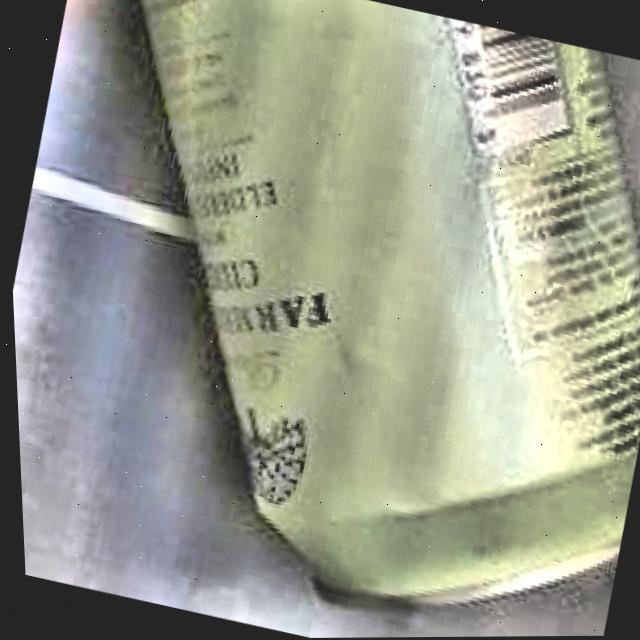metal: (135, 0, 640, 609)
